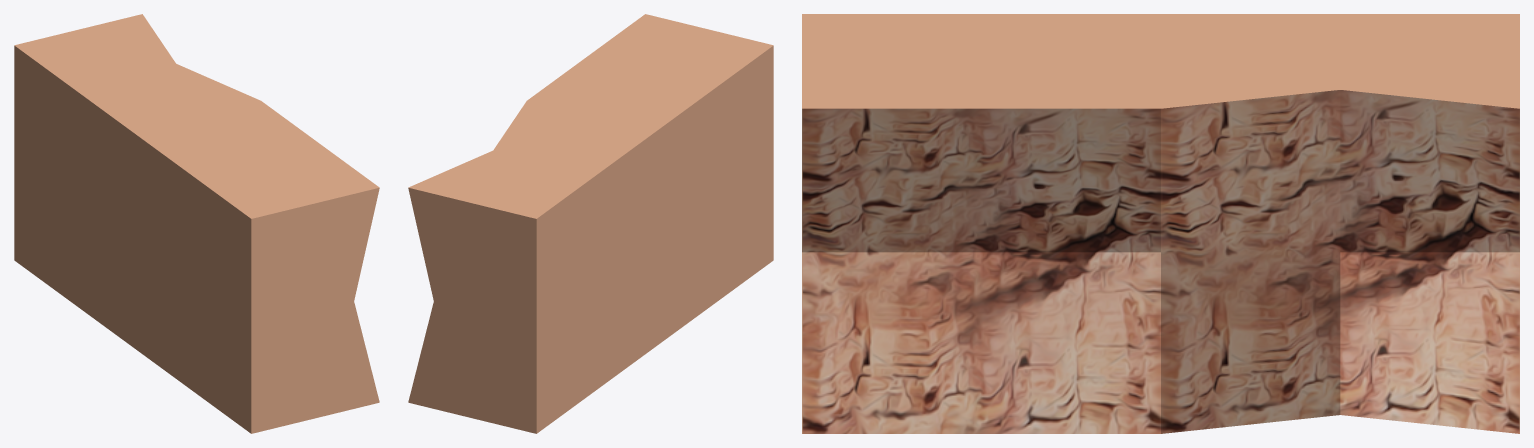
File: Model_WallAgain.fbx
The picture shows the model from 3 angles, left to right: view 1: azimuth 30°, elevation 25°; view 2: azimuth 150°, elevation 25°; view 3: azimuth 270°, elevation 25°; orthographic projection. The views are drawn at different scales.
Visible parts, largest first — view 1: Mesh; view 2: Mesh; view 3: Mesh.
Boxes of the visible parts, x1=… form: Mesh: x1=14, y1=14, x2=379, y2=433; Mesh: x1=408, y1=14, x2=773, y2=433; Mesh: x1=802, y1=14, x2=1519, y2=433.
Bounding box in the file's own units: 62.5 × 100 × 200.
